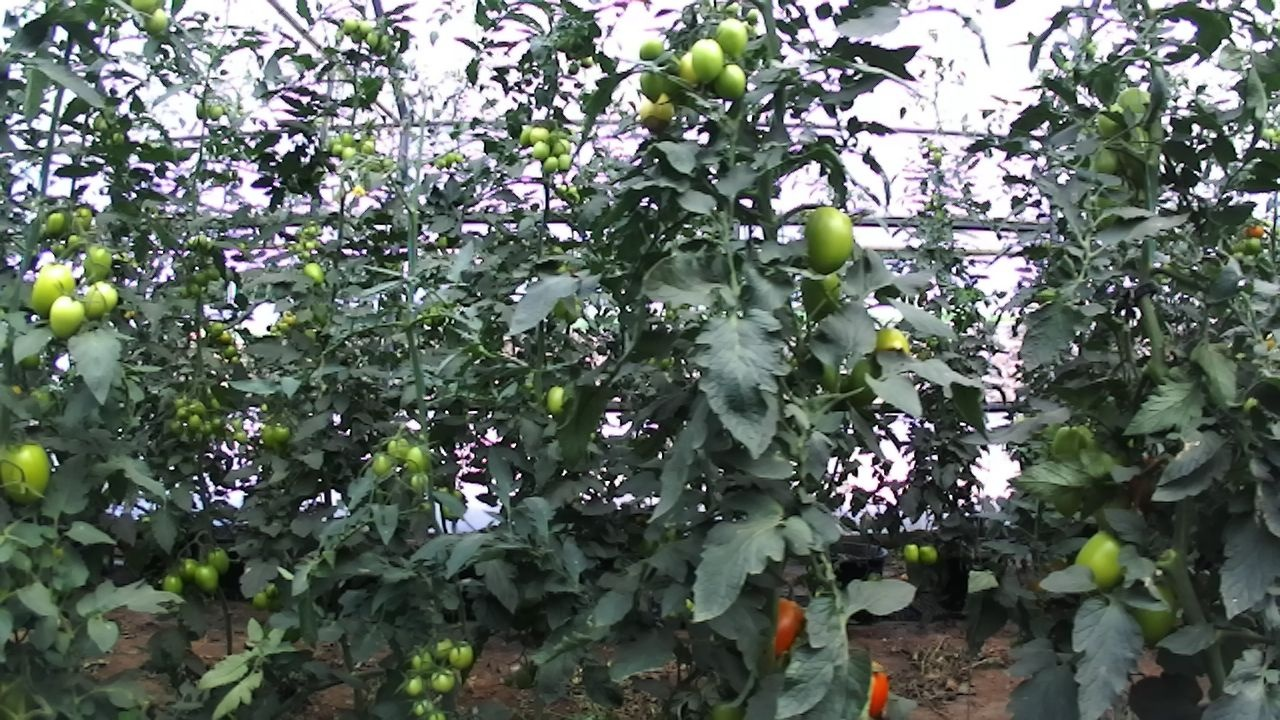tomato: (1112, 566, 1195, 658), (795, 194, 871, 287), (1060, 514, 1141, 601), (0, 424, 67, 514), (756, 585, 817, 670), (22, 253, 83, 327), (836, 349, 896, 417), (792, 264, 852, 329), (1041, 413, 1100, 473), (633, 84, 684, 137), (73, 236, 122, 291), (709, 56, 758, 110), (1080, 138, 1136, 185), (1041, 476, 1093, 526), (710, 9, 758, 63), (687, 32, 731, 90), (43, 290, 91, 343), (1111, 82, 1160, 131), (633, 65, 683, 113), (77, 274, 123, 324), (670, 45, 715, 91), (1090, 101, 1139, 142), (537, 380, 579, 420), (380, 432, 417, 470), (189, 560, 227, 596), (200, 541, 238, 577), (139, 5, 176, 40), (38, 206, 76, 240), (634, 33, 673, 66), (400, 442, 435, 478), (68, 199, 100, 238), (425, 663, 460, 697), (423, 631, 458, 665), (297, 256, 331, 290), (444, 636, 476, 672), (405, 645, 437, 680), (156, 567, 188, 601), (397, 669, 430, 699), (171, 554, 203, 584), (365, 450, 397, 480), (898, 538, 928, 567), (1237, 232, 1268, 259), (914, 540, 941, 569), (548, 134, 575, 163), (1241, 217, 1269, 243), (353, 135, 382, 160), (337, 144, 363, 170), (527, 122, 552, 148), (538, 152, 564, 176), (269, 422, 295, 446), (339, 14, 363, 38), (530, 138, 554, 162), (191, 97, 214, 122), (554, 151, 577, 175), (250, 588, 272, 613), (516, 123, 537, 148), (204, 102, 227, 123), (184, 412, 205, 434), (363, 29, 384, 50), (230, 427, 251, 448), (208, 317, 228, 338), (355, 17, 377, 36), (172, 404, 195, 422), (337, 131, 358, 150), (328, 140, 348, 159), (216, 327, 235, 346), (167, 417, 186, 436), (222, 344, 239, 361)
